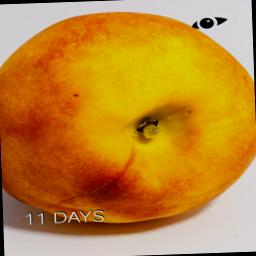Peach Unripe: (0, 5, 256, 232)
